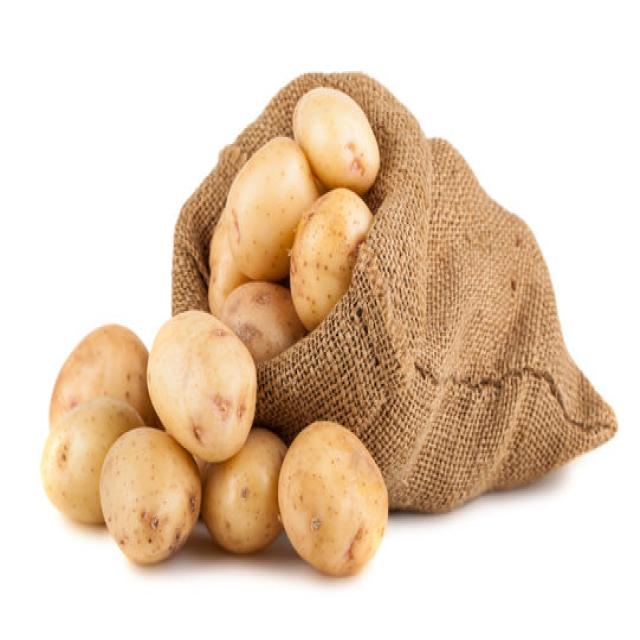Potato: (277, 418, 388, 576), (146, 308, 256, 462), (98, 425, 201, 565), (225, 135, 318, 281), (40, 394, 144, 524), (288, 187, 372, 331), (48, 322, 155, 432), (201, 425, 286, 553), (291, 85, 380, 194), (220, 279, 304, 365), (207, 202, 247, 316)
